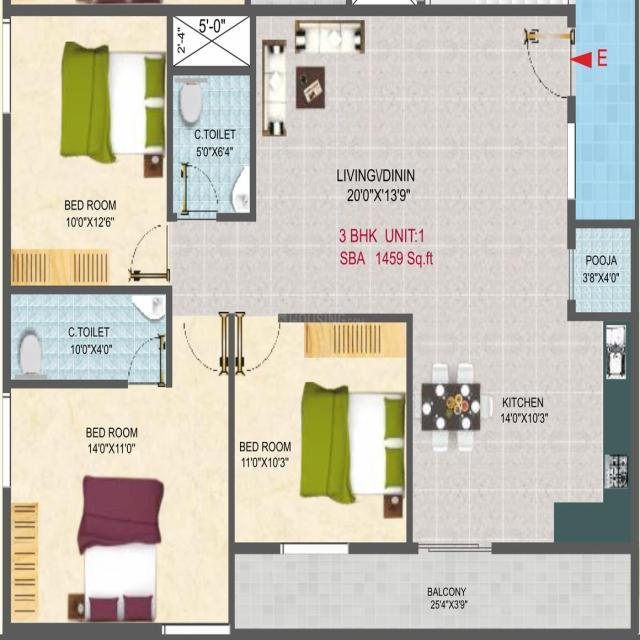Balcony-Sitout: (235, 553, 632, 629)
Bedroom: (10, 17, 169, 288), (235, 315, 406, 543)
Bedroom with Toilet: (8, 290, 230, 624)
Dining: (414, 357, 486, 460)
Enterance-Foyer: (522, 26, 592, 99)
Kitchen: (489, 321, 630, 542)
Living: (251, 1, 421, 223)
Pooja: (569, 227, 630, 313)
Toilet: (11, 293, 166, 382), (173, 76, 249, 214)
